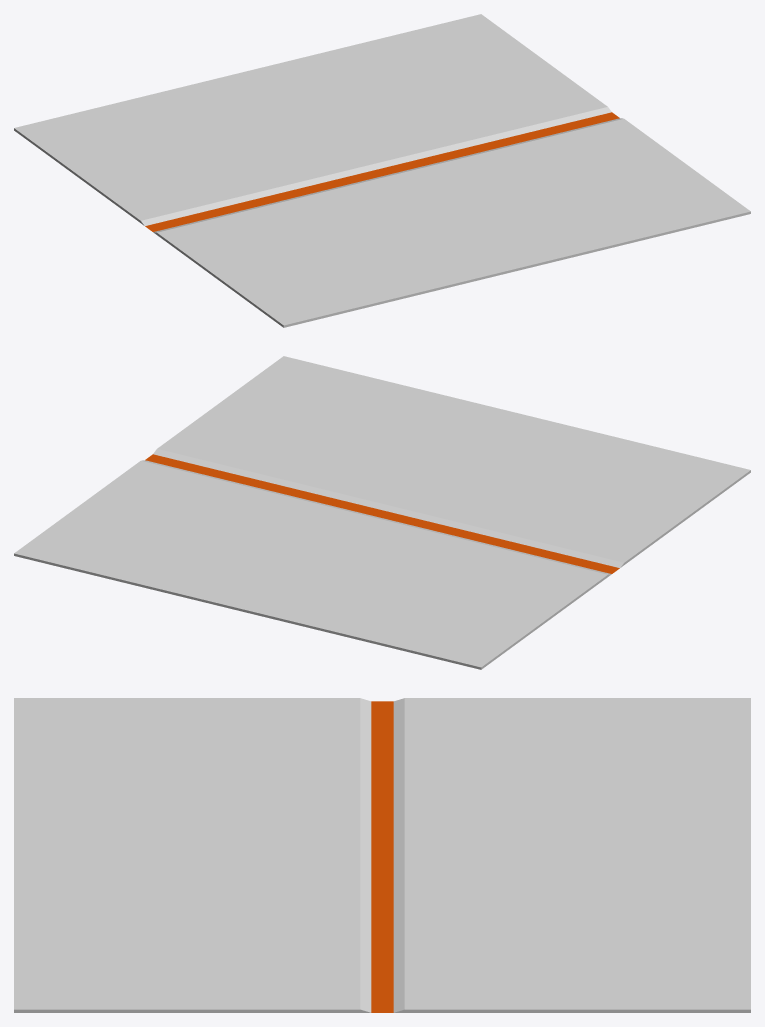
File: S_Floor4_LOD0.fbx
The picture shows the model from 3 angles, top to bottom: view 1: azimuth 30°, elevation 25°; view 2: azimuth 150°, elevation 25°; view 3: azimuth 270°, elevation 25°; orthographic projection. The views are drawn at different scales.
Visible parts, largest first — view 1: S_Floor4_LOD0; view 2: S_Floor4_LOD0; view 3: S_Floor4_LOD0.
Part boxes in pixels (box(x1,y1,x2,y2)): S_Floor4_LOD0: box(14, 14, 750, 327); S_Floor4_LOD0: box(14, 356, 750, 669); S_Floor4_LOD0: box(14, 698, 750, 1012).
Size of the model in its own units: 200 by 200 by 1.
